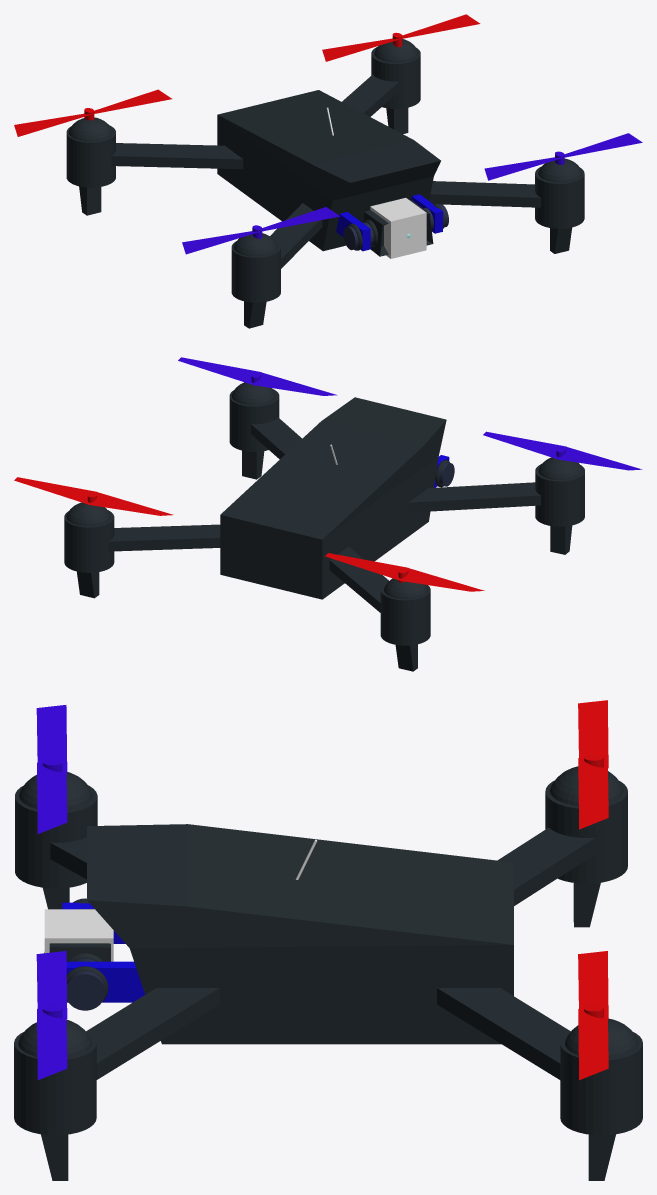
Rendered from droneAsset.fbx.
3 renders of one model, top to bottom at view 1: azimuth 30°, elevation 25°; view 2: azimuth 150°, elevation 25°; view 3: azimuth 270°, elevation 25°, orthographic. The views are drawn at different scales.
Visible parts, largest first — view 1: Cube.004, Cube.010, Cube.005, Cylinder.006, Cube, Cylinder.007, Cylinder.004, Cylinder.005, Plane.002, Plane.003, Plane.001, Plane.004 (+13 smaller); view 2: Cube.004, Cube.009, Cube.007, Cylinder.007, Cylinder.005, Cylinder.006, Cylinder.004, Plane.004, Cube.010, Plane.002, Plane.003, Plane.001 (+9 smaller); view 3: Cube.004, Cylinder.004, Cylinder.005, Cube.007, Cube.005, Cylinder.006, Cylinder.007, Plane.002, Plane.004, Plane.003, Plane.001, Cube.010 (+12 smaller).
Boxes of the visible parts, x1,y1,x2,y2 form: Cube.004: (217,90,440,251); Cube.010: (111,143,243,169); Cube.005: (429,181,540,207); Cylinder.006: (231,240,280,302); Cube: (370,198,426,258); Cylinder.007: (66,125,115,187); Cylinder.004: (535,166,584,228); Cylinder.005: (371,47,420,108); Plane.002: (322,14,480,61); Plane.003: (182,207,340,254); Plane.001: (484,133,642,180); Plane.004: (14,89,171,136); Cube.004: (220,397,446,599); Cube.009: (408,482,540,512); Cube.007: (108,524,220,551); Cylinder.007: (380,582,430,645); Cylinder.005: (64,510,114,572); Cylinder.006: (535,464,584,526); Cylinder.004: (229,389,279,451); Plane.004: (325,553,484,591); Cube.010: (329,546,388,612); Plane.002: (14,477,173,515); Plane.003: (483,431,642,470); Plane.001: (178,357,337,395); Cube.004: (87,824,513,1044); Cylinder.004: (14,1031,96,1135); Cylinder.005: (560,1031,642,1135); Cube.007: (437,988,570,1079); Cube.005: (86,988,219,1079); Cylinder.006: (15,785,97,888); Cylinder.007: (545,780,627,883); Plane.002: (578,951,608,1080); Plane.004: (578,700,608,829); Plane.003: (36,705,67,833); Plane.001: (36,951,67,1079); Cube.010: (497,827,595,905).
Bounding box in the file's own units: 2587 × 667 × 1824.
